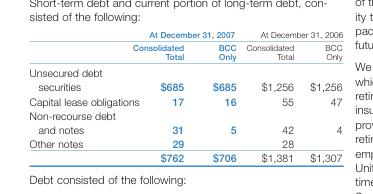table: (28, 28, 342, 163)
table column: (28, 28, 135, 163), (135, 28, 197, 163), (240, 28, 301, 163), (197, 28, 240, 163), (301, 28, 342, 163)
table column header: (28, 28, 342, 63)
table row: (28, 63, 342, 93), (28, 107, 342, 135), (28, 40, 342, 63), (28, 93, 342, 107), (28, 135, 342, 149), (28, 149, 342, 163), (28, 28, 342, 40)
table spanning cell: (135, 28, 240, 40), (240, 28, 342, 40)
